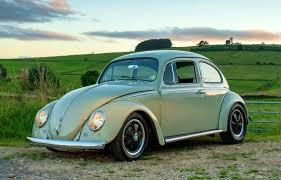volkswagen: (32, 42, 258, 162)
